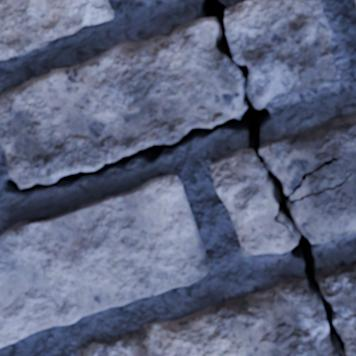brick: (0, 175, 210, 346), (0, 0, 113, 59)
broken_brick: (0, 17, 244, 186), (76, 276, 335, 355), (260, 113, 355, 244), (226, 0, 337, 107), (209, 148, 295, 256), (317, 261, 355, 355)
crack: (0, 0, 353, 355)
